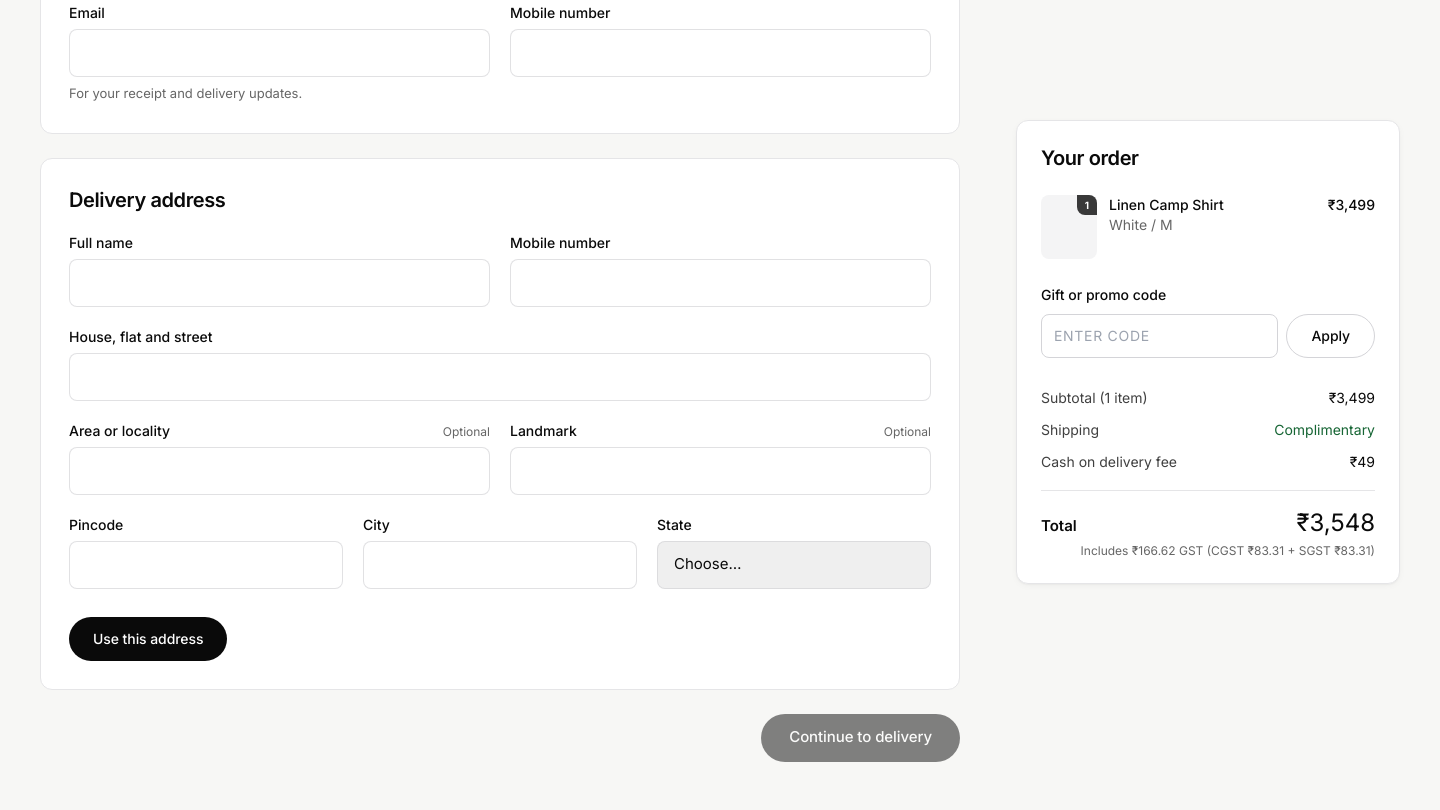
it: guest checkout › validates contact details before moving on
The image size is (1440, 810).
(page scrolled)
Click the button "Use this address": x=148, y=638 [69,616,228,660]
(page scrolled)
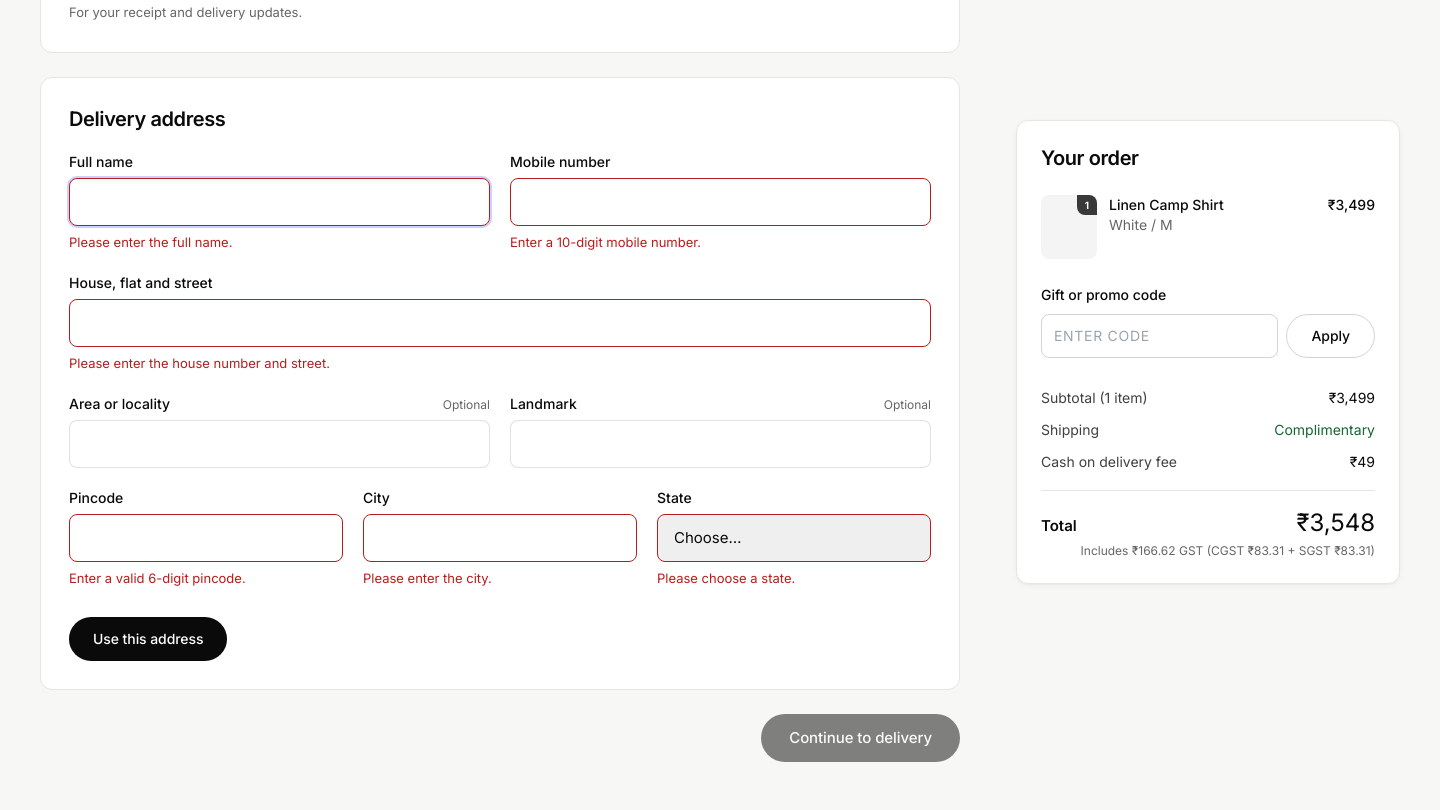
Expected: the button "Continue to delivery" is disabled, [761,714,960,762]
Expected: the text "Please enter the full name." is shown, [69,234,232,250]
